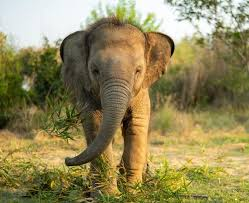elephant: (31, 12, 176, 201)
